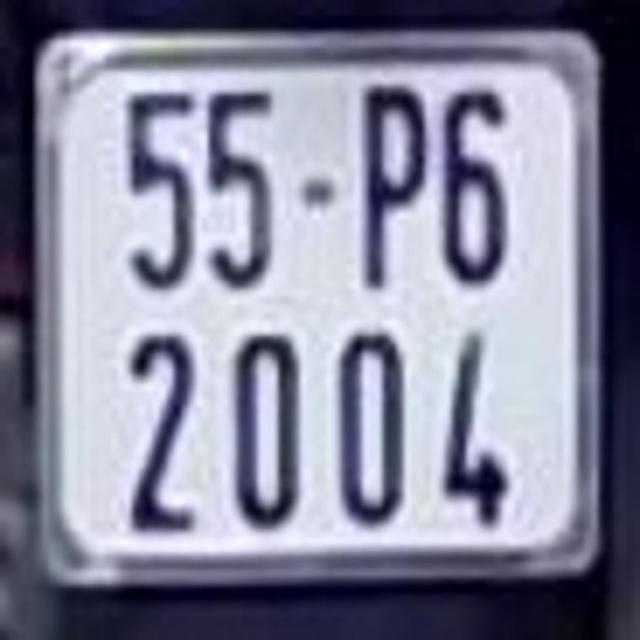0: (335, 317, 410, 528), (228, 325, 304, 530)
2: (126, 327, 200, 534)
4: (436, 315, 516, 532)
5: (203, 80, 280, 290), (121, 84, 198, 290)
6: (437, 77, 517, 288)
P: (353, 74, 430, 292)
